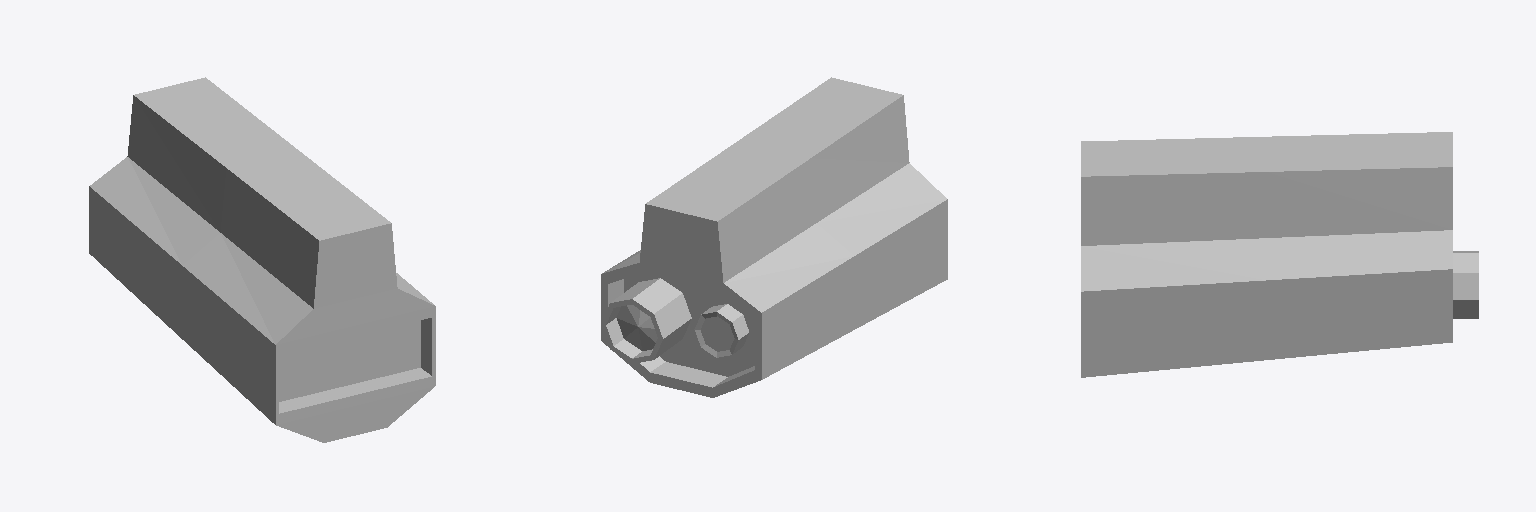
The model's file is camera.obj.
3 views of the same model, side by side, from view 1: azimuth 30°, elevation 25°; view 2: azimuth 150°, elevation 25°; view 3: azimuth 270°, elevation 25° (orthographic).
Visible parts, largest first — view 1: Base.001; view 2: Base.001, Camera, Light; view 3: Base.001, Camera.
Boxes of the visible parts, box(x1,y1,x2,y2) form: Base.001: box(89, 77, 435, 442); Base.001: box(601, 77, 947, 397); Camera: box(601, 278, 691, 363); Light: box(694, 304, 748, 357); Base.001: box(1081, 132, 1452, 377); Camera: box(1453, 251, 1478, 318).
Size of the model in its own units: 0.0438 by 0.0556 by 0.0943.